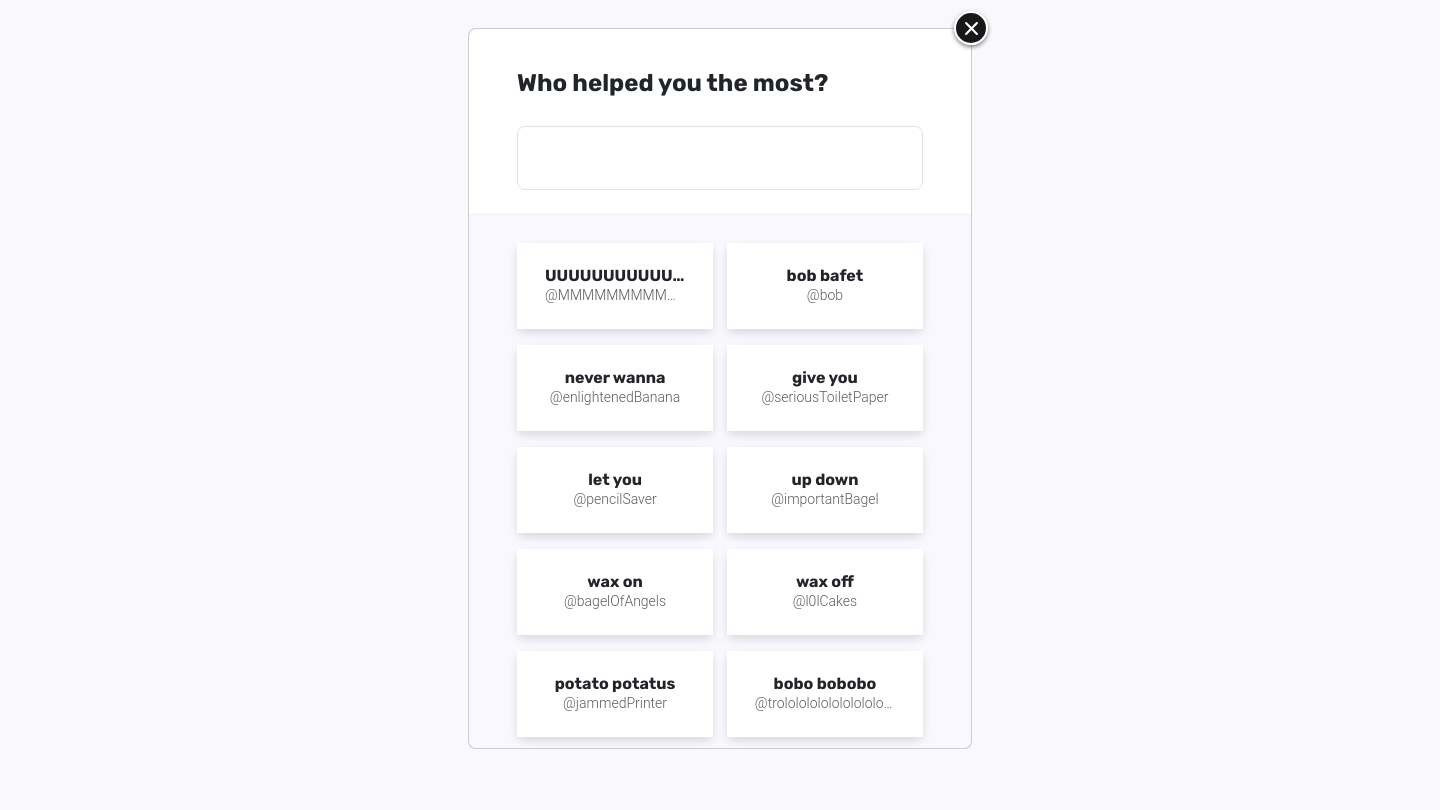
Test: GiveStarCard Component › should display error message when giving a star fails
This screenshot has width=1440, height=810.
Expected: the heading "Who helped you the most?" is shown, [517,69,828,97]
Click the heading "bob bafet".
click(825, 275)  # box [786,266,863,285]
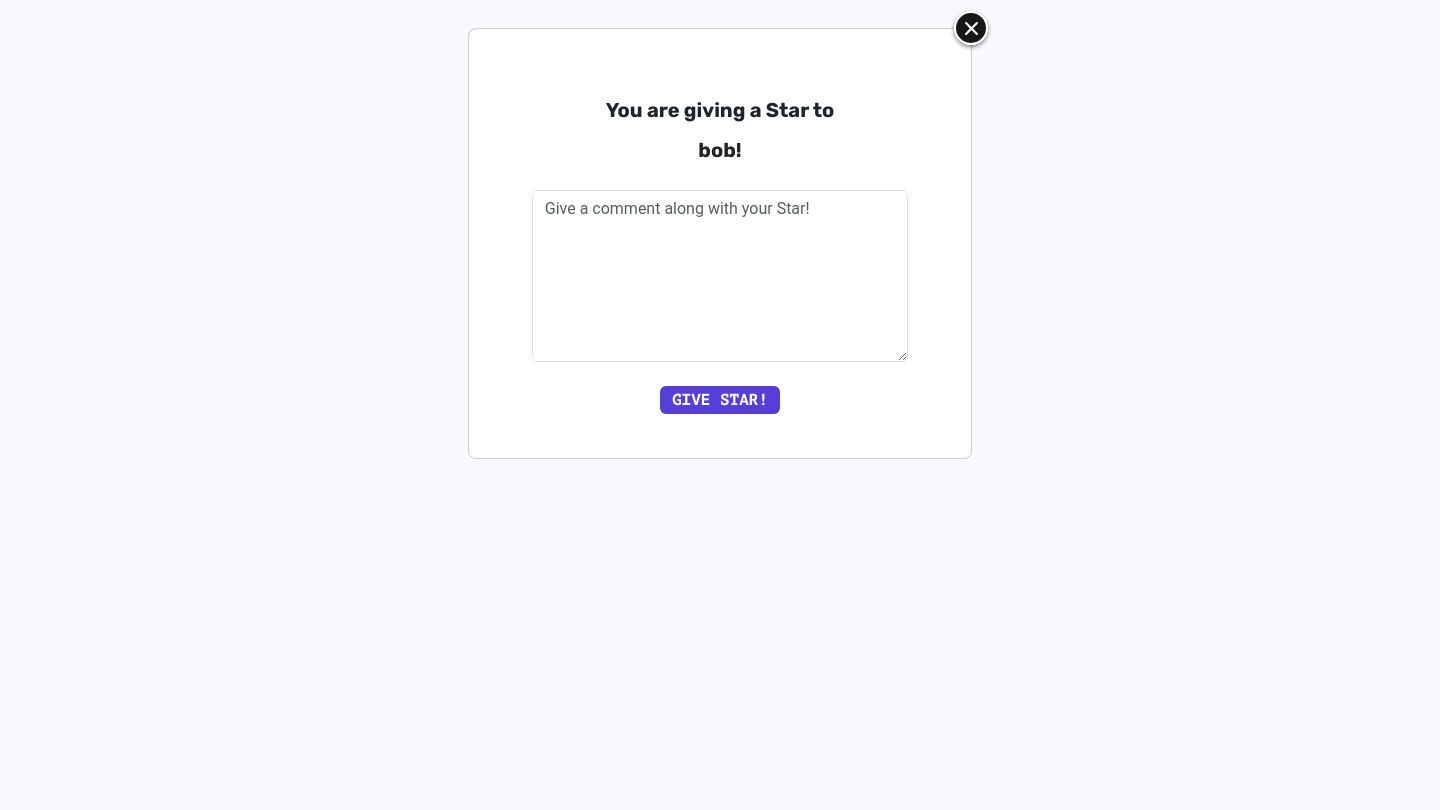
Type "1" into the text box.
click(720, 276); type("1")  # box [532,190,908,362]
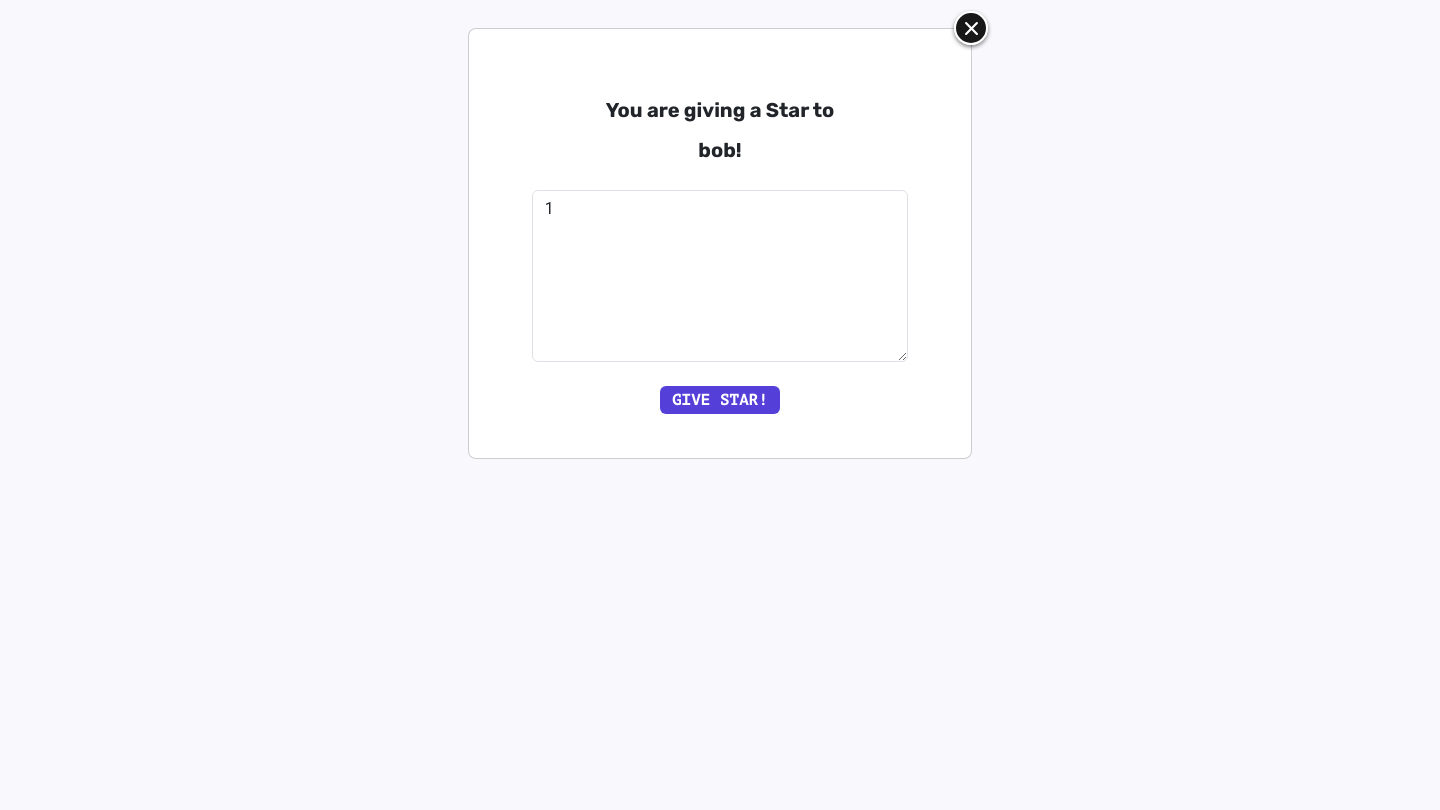
Click the button.
click(720, 400)  # box [660,386,780,414]
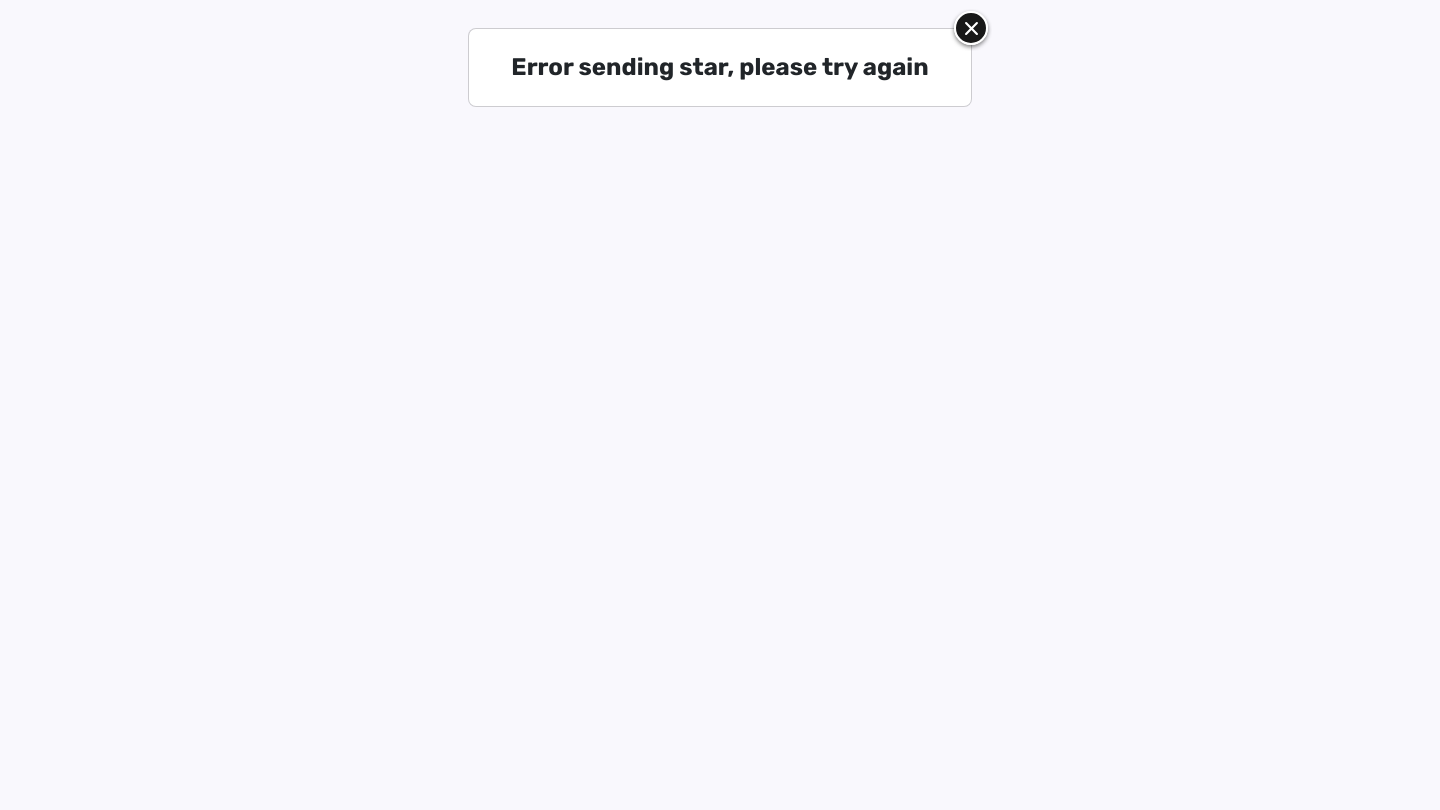
Now the heading "Error sending star, please try again" is shown, box [493,53,947,82]
